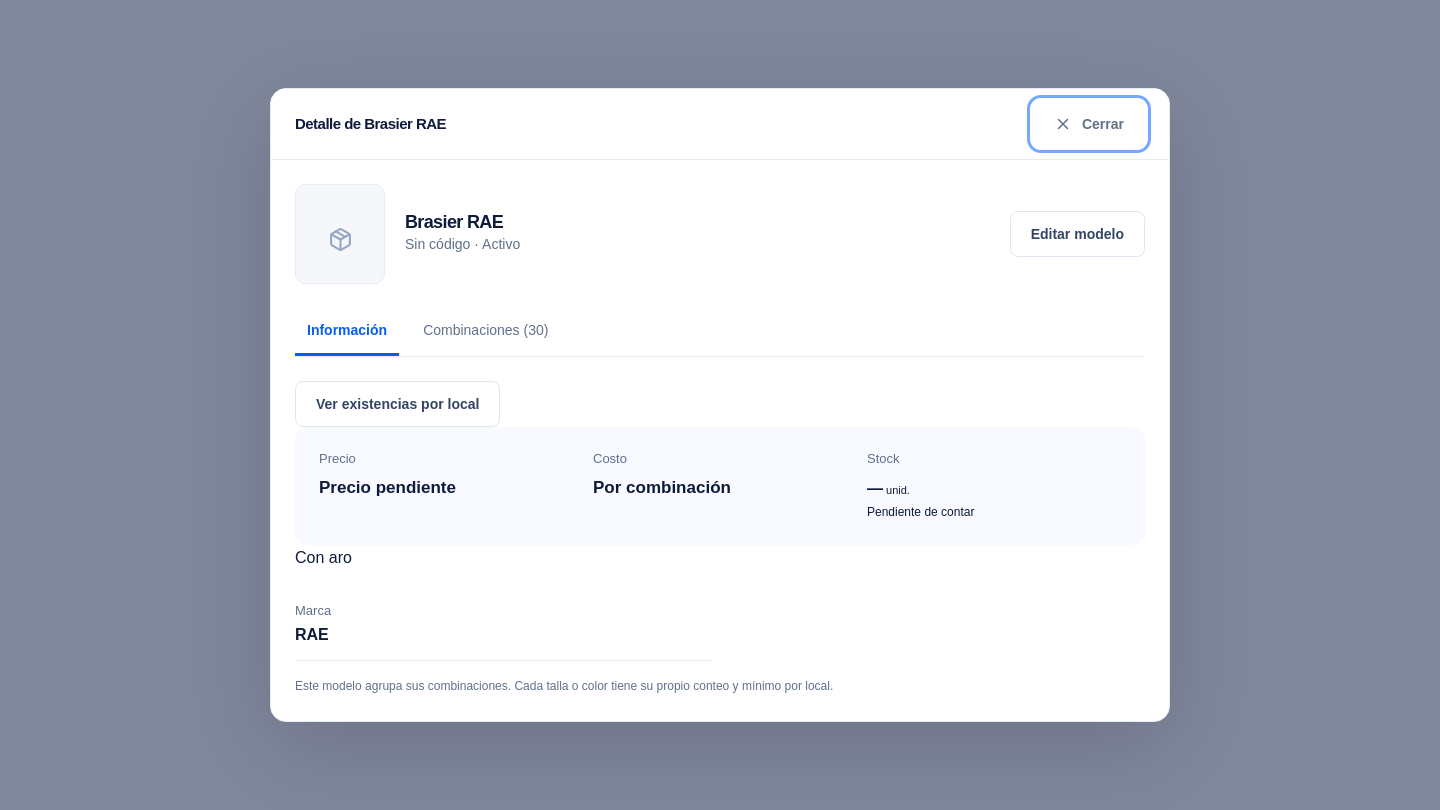
Test case: consulta primero el detalle y abre combinaciones sin entrar al editor
The image size is (1440, 810).
Expected: the dialog "Detalle de Brasier RAE" is shown, top-left (270, 88), bottom-right (1170, 722)
Expected: the text "RAE" is shown, top-left (295, 626), bottom-right (329, 643)
Click the tab "Combinaciones (30)" at (486, 332), box top-left (411, 308), bottom-right (560, 356)
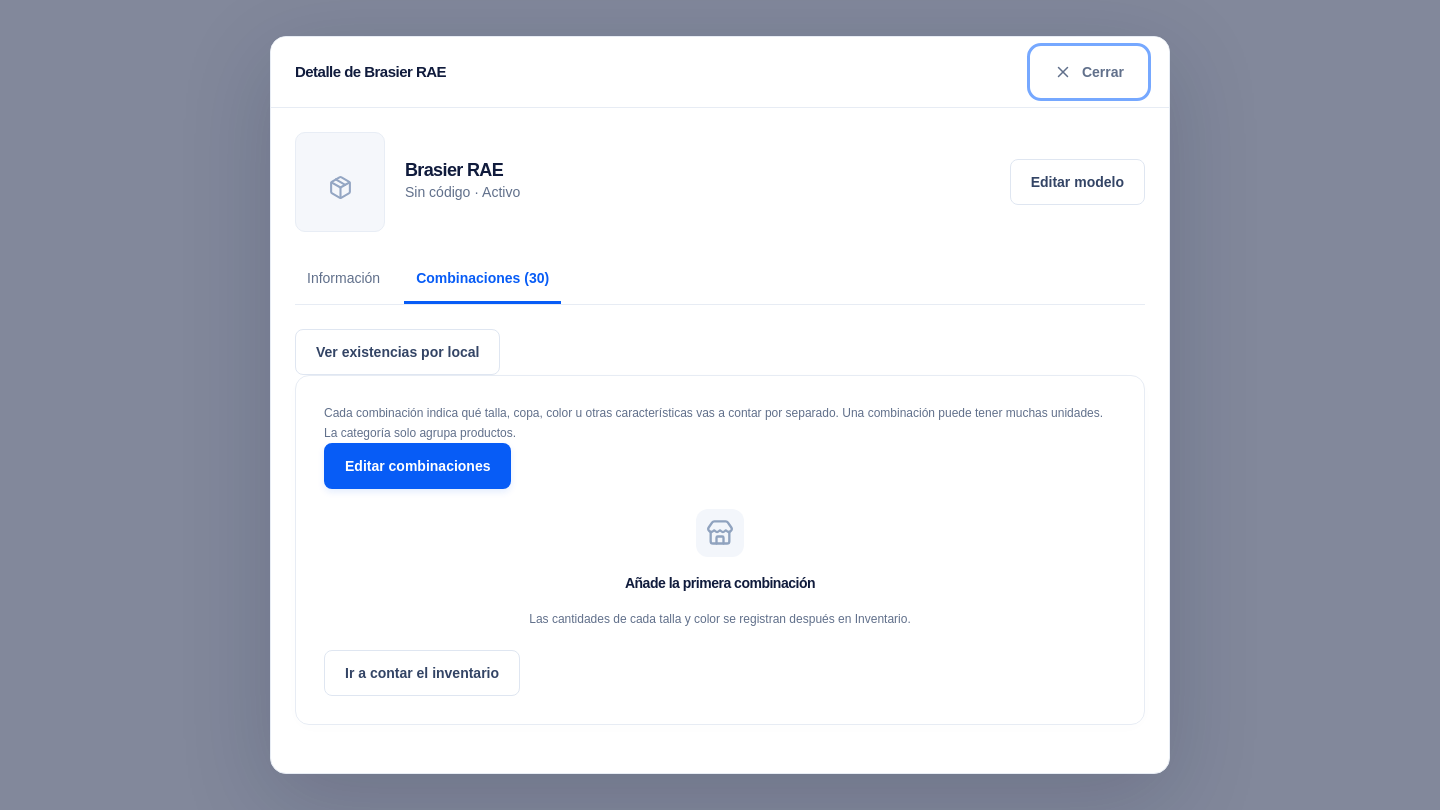
Now the heading "Añade la primera combinación" is shown, box top-left (625, 575), bottom-right (815, 591)
